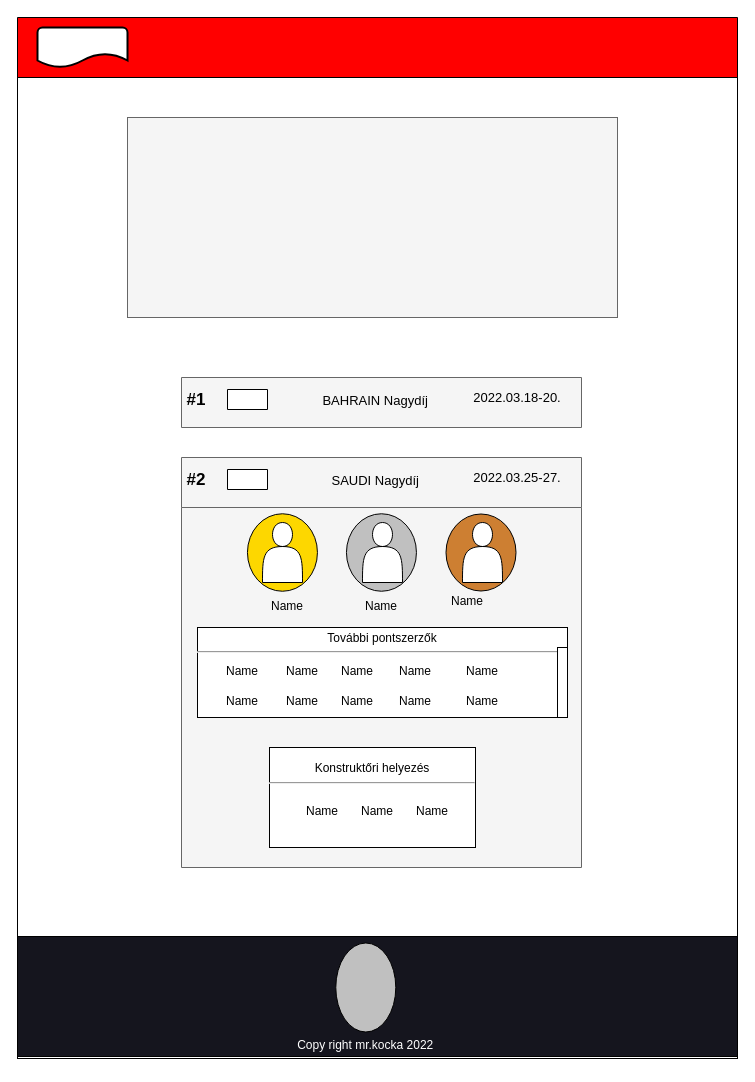
This 755x1082 diagram has some shape labels left out. The shapes that lost their labels are listed below. From the top down, each one's centre as x and y in pixels, then its label:
At (82,47): "LOGÓ".
At (372,217): "BAHRAIN Futam 2022. 03.18 -20".
